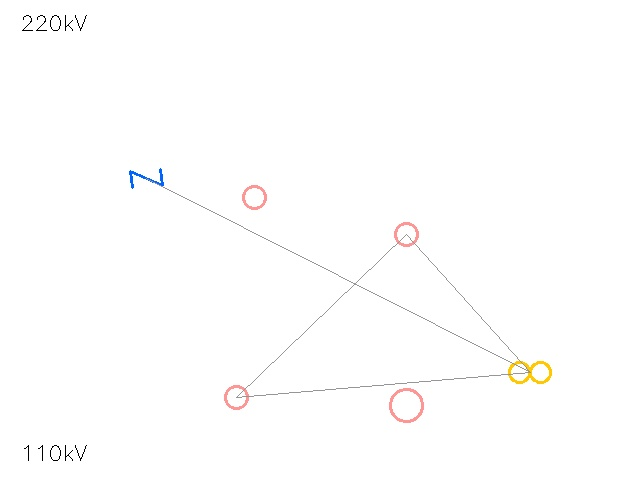circuit_breaker: (129, 161, 163, 195)
fuse: (231, 174, 277, 220)
load_break_switch: (373, 372, 439, 438)
reactor: (214, 375, 258, 419)
transformer_2w: (503, 345, 557, 399)
voltage_transformer: (383, 211, 429, 257)
